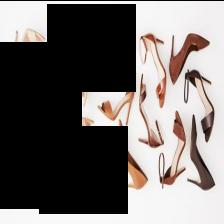brown: (170, 32, 210, 84), (140, 32, 167, 107), (160, 110, 186, 186), (139, 73, 164, 147)
